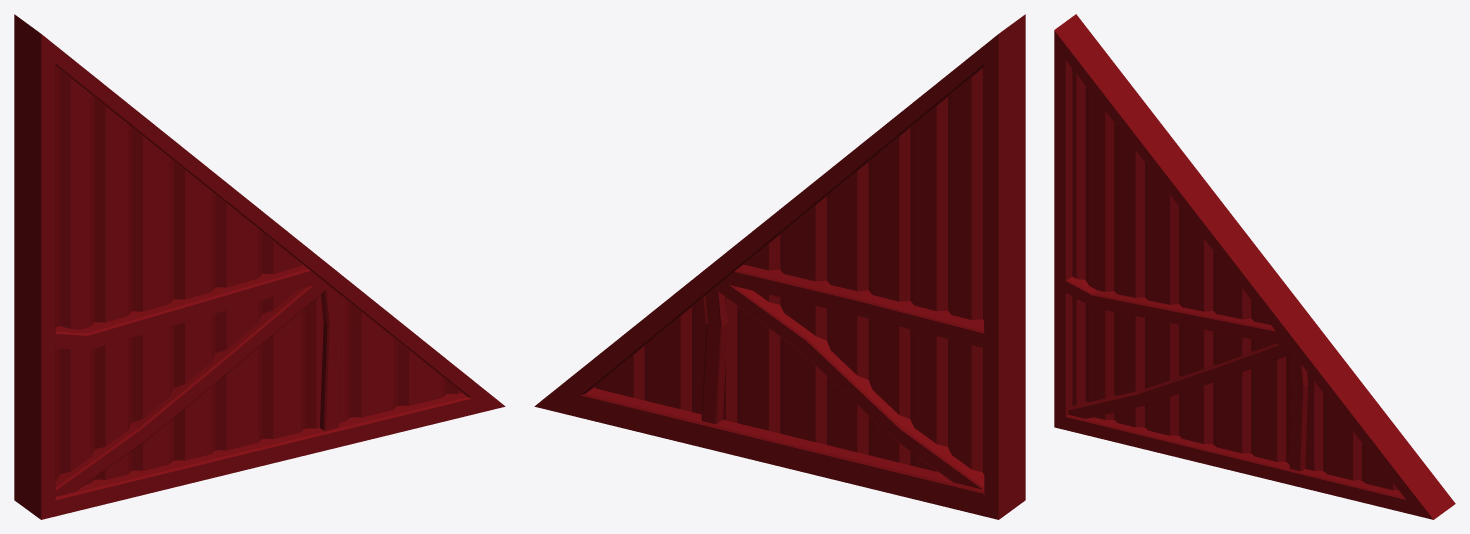
File: SM_MH_01_Wood_03_Wall_Roof_R_01.fbx
The picture shows the model from 3 angles, left to right: view 1: azimuth 30°, elevation 25°; view 2: azimuth 150°, elevation 25°; view 3: azimuth 330°, elevation 25°; orthographic projection. The views are drawn at different scales.
Parts seen in each view (by area): view 1: SM_MH_01_Wood_03_Wall_Roof_R_01_LOD0; view 2: SM_MH_01_Wood_03_Wall_Roof_R_01_LOD0; view 3: SM_MH_01_Wood_03_Wall_Roof_R_01_LOD0.
Boxes of the visible parts, left/top/right/bottom form: SM_MH_01_Wood_03_Wall_Roof_R_01_LOD0: left=14, top=14, right=505, bottom=519; SM_MH_01_Wood_03_Wall_Roof_R_01_LOD0: left=534, top=14, right=1025, bottom=519; SM_MH_01_Wood_03_Wall_Roof_R_01_LOD0: left=1054, top=14, right=1455, bottom=519.
Size of what is drawn, in the model's own units: 300 by 300 by 30.2.
